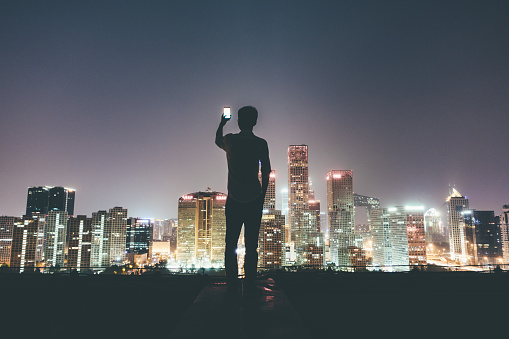em pe: (208, 100, 274, 296)
